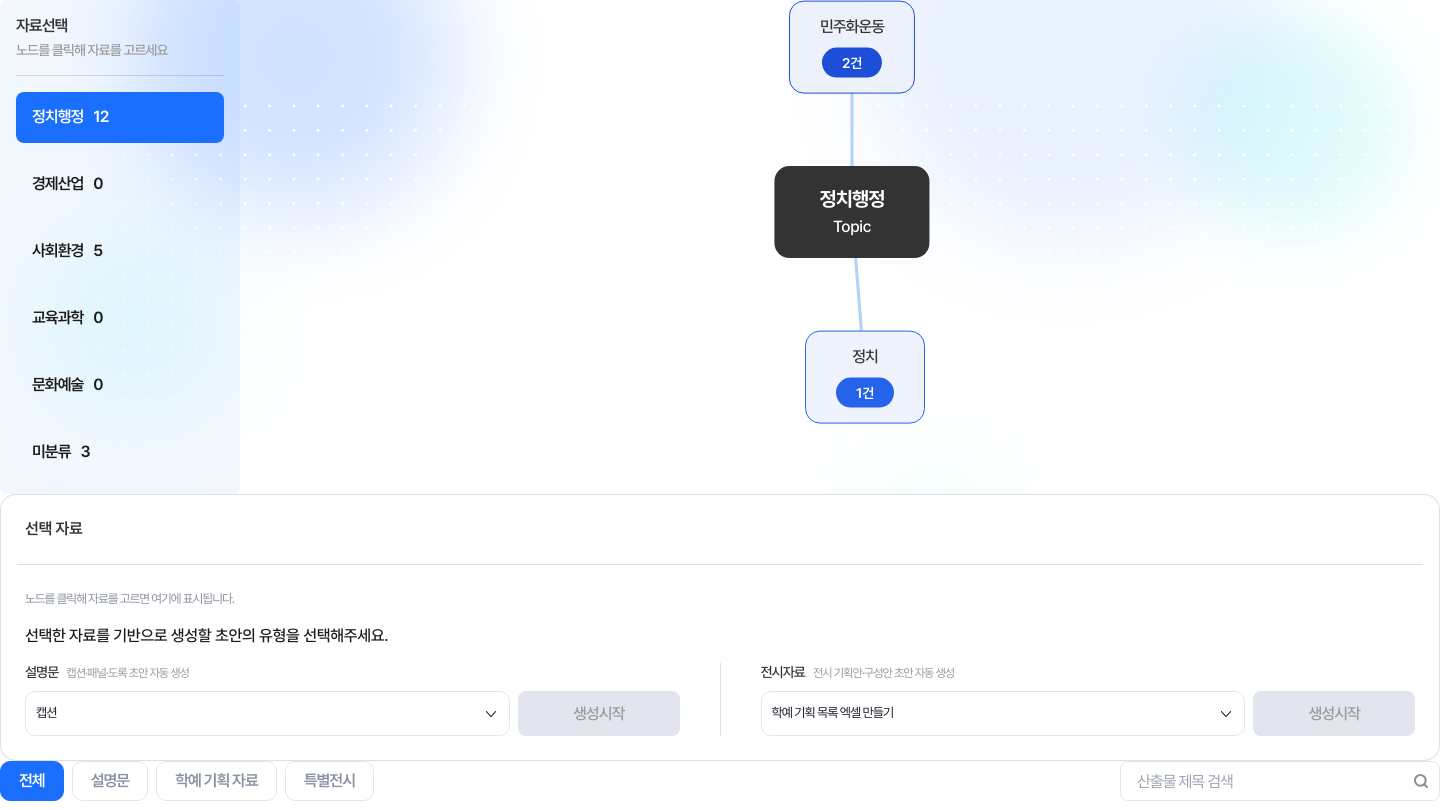
노드 모달 — 200건 어디서든 이름을 그린다 › 유형 탭의 「전체」 건수가 노드의 자료 수와 같다
Click the button "민주화운동 2건": (852, 47) [789,1,915,93]
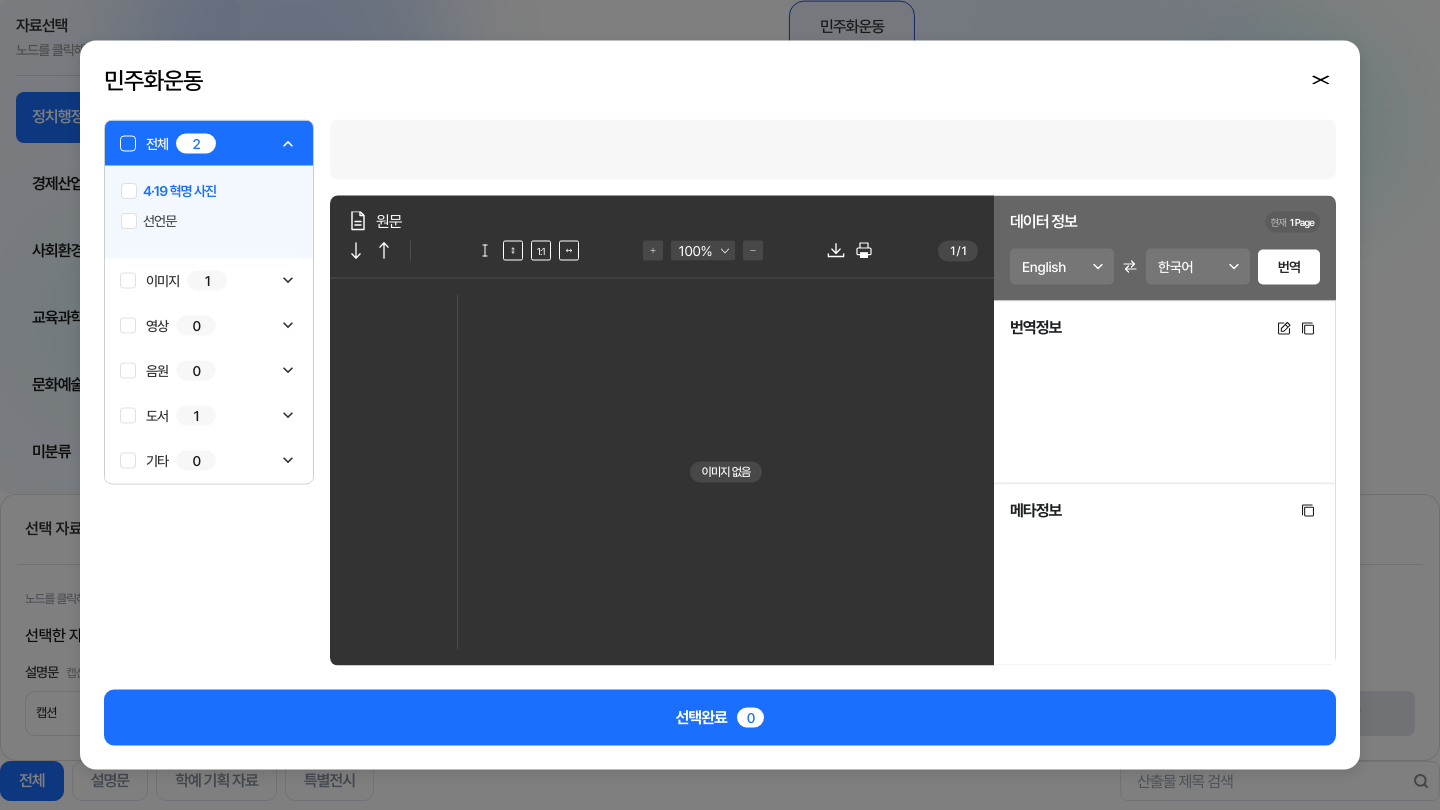
Now the button "전체 2" is shown, box [146,133,298,153]
